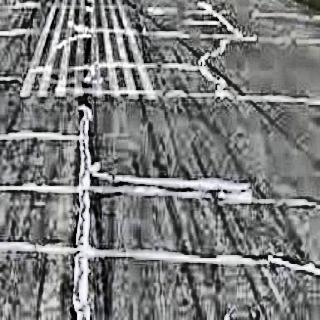crack: (70, 28, 105, 320), (108, 174, 262, 202), (239, 250, 307, 278), (30, 244, 50, 317), (27, 3, 36, 48)
